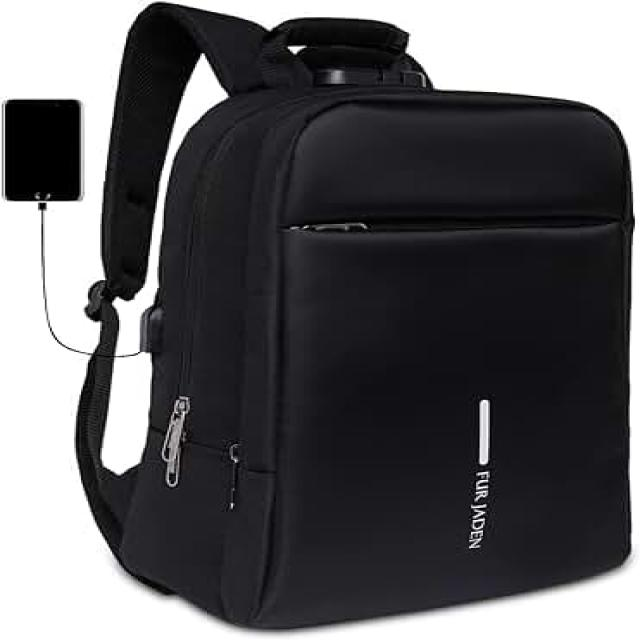backpack: (74, 1, 640, 638)
